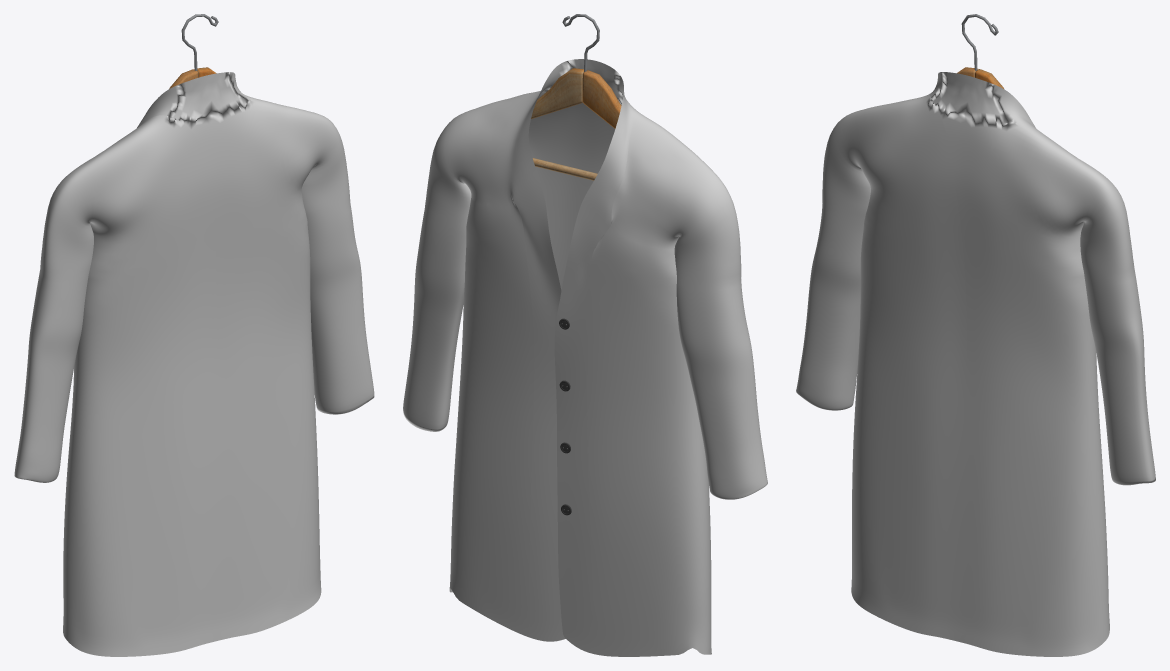
The model's file is lab_coat.fbx.
3 renders of one model, left to right at view 1: azimuth 30°, elevation 25°; view 2: azimuth 150°, elevation 25°; view 3: azimuth 330°, elevation 25°, orthographic.
Visible parts, largest first — view 1: lab_coat, hanger; view 2: lab_coat, hanger; view 3: lab_coat, hanger.
Part boxes in pixels (<box>): lab_coat: <box>14,72,374,656</box>; hanger: <box>169,14,218,88</box>; lab_coat: <box>403,59,767,656</box>; hanger: <box>531,14,621,180</box>; lab_coat: <box>796,72,1155,656</box>; hanger: <box>957,14,1003,88</box>.
Size of the model in its own units: 64.39 by 106 by 14.14.
